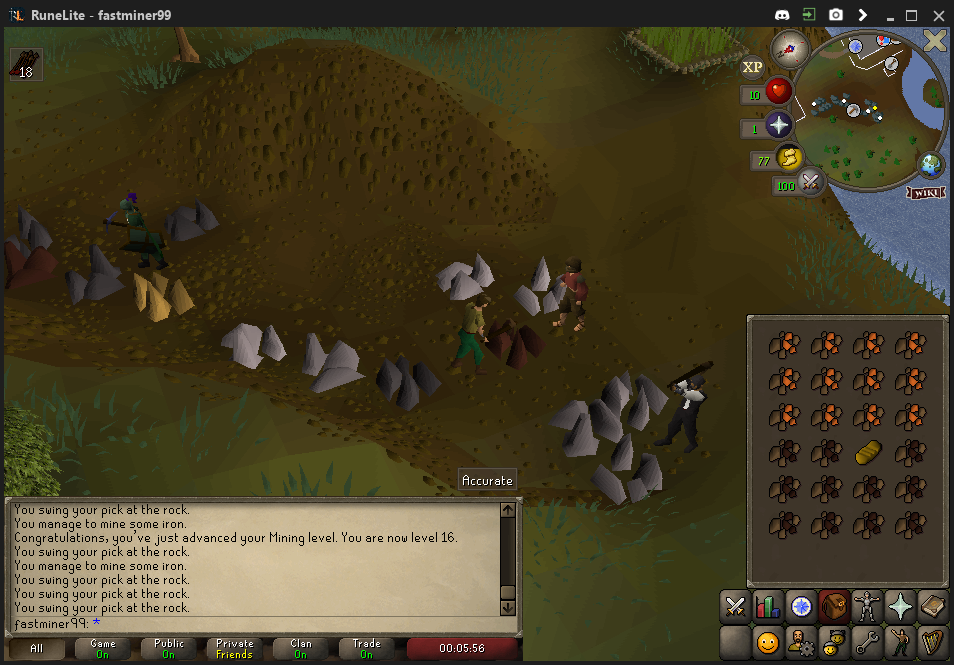depleted: (375, 349, 437, 409), (63, 243, 118, 309), (160, 197, 222, 245), (1, 213, 56, 253)
ore: (488, 313, 541, 367)
